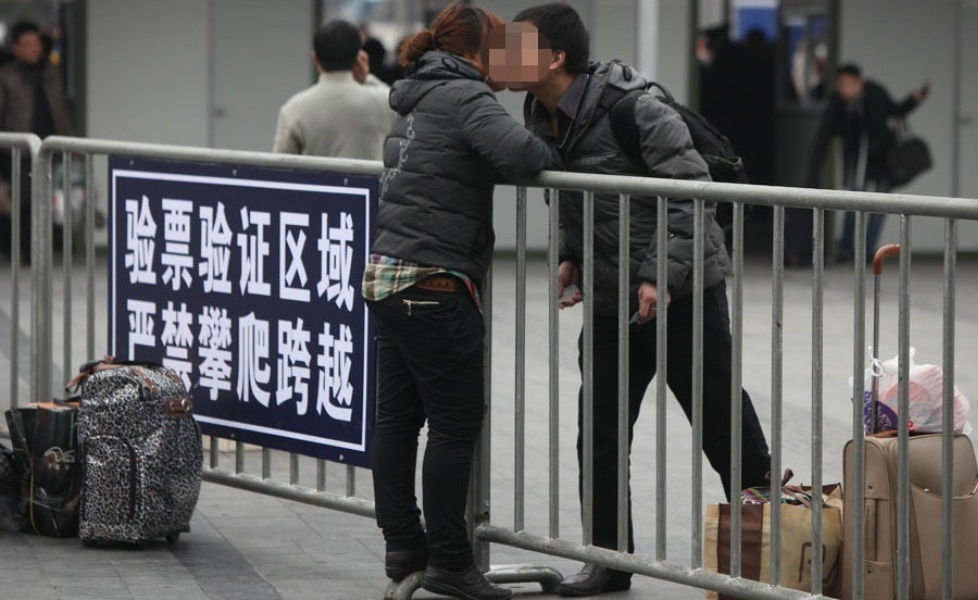text: (129, 298, 144, 428), (145, 298, 160, 428), (161, 298, 176, 428), (177, 298, 192, 428), (193, 298, 208, 428), (209, 298, 224, 428), (225, 298, 240, 428), (241, 298, 256, 428), (257, 298, 272, 428), (273, 298, 288, 428), (289, 298, 304, 428), (305, 298, 320, 428), (321, 298, 336, 428), (337, 298, 352, 428), (129, 192, 144, 314), (145, 192, 160, 314), (161, 192, 176, 314), (177, 192, 192, 314), (193, 192, 208, 314), (209, 192, 224, 314), (225, 192, 240, 314), (241, 192, 256, 314), (257, 192, 272, 314), (273, 192, 288, 314), (289, 192, 304, 314), (305, 192, 320, 314), (321, 192, 336, 314), (337, 192, 352, 314), (353, 298, 359, 428), (122, 192, 128, 314), (353, 192, 359, 314), (125, 298, 128, 428)
